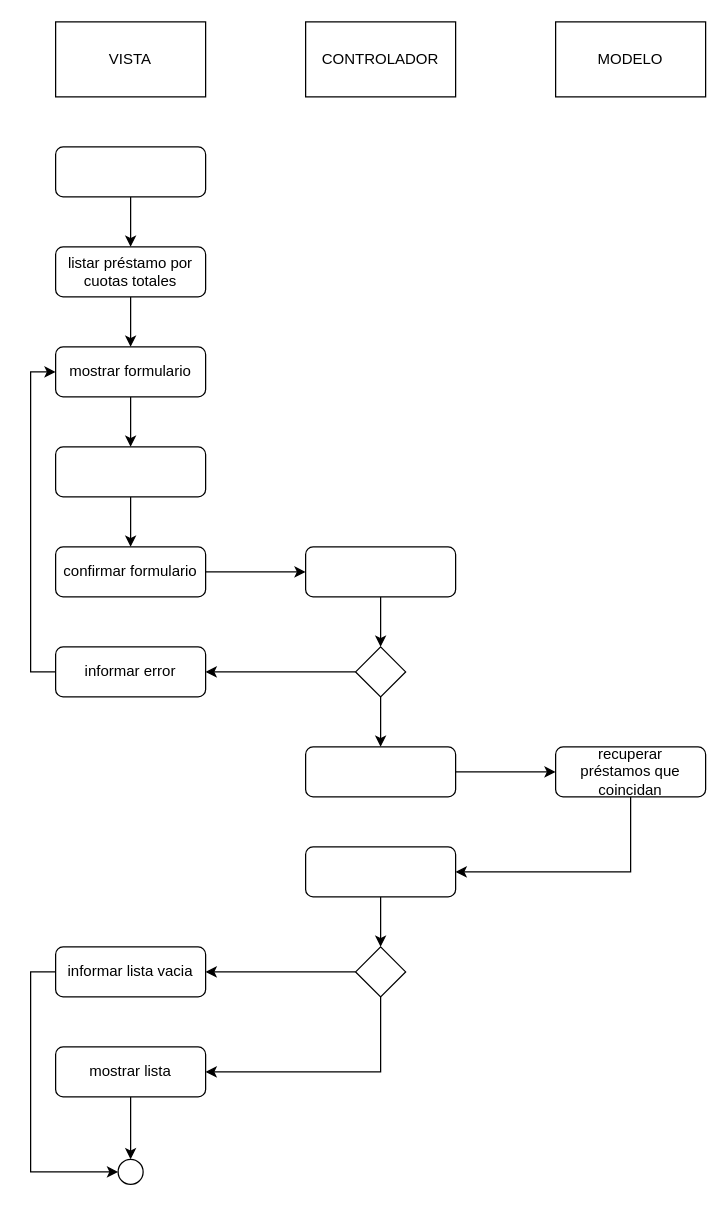
Image size: 728x1206. Some labels were removed from this diagram. Here are the shapes that lost their labels. From the top down, the centre of each, then its label:
[130,171]: vista préstamo
[130,471]: completar formulario
[380,571]: validar datos
[380,771]: recuperar lista préstamos
[380,871]: comprobar lista
